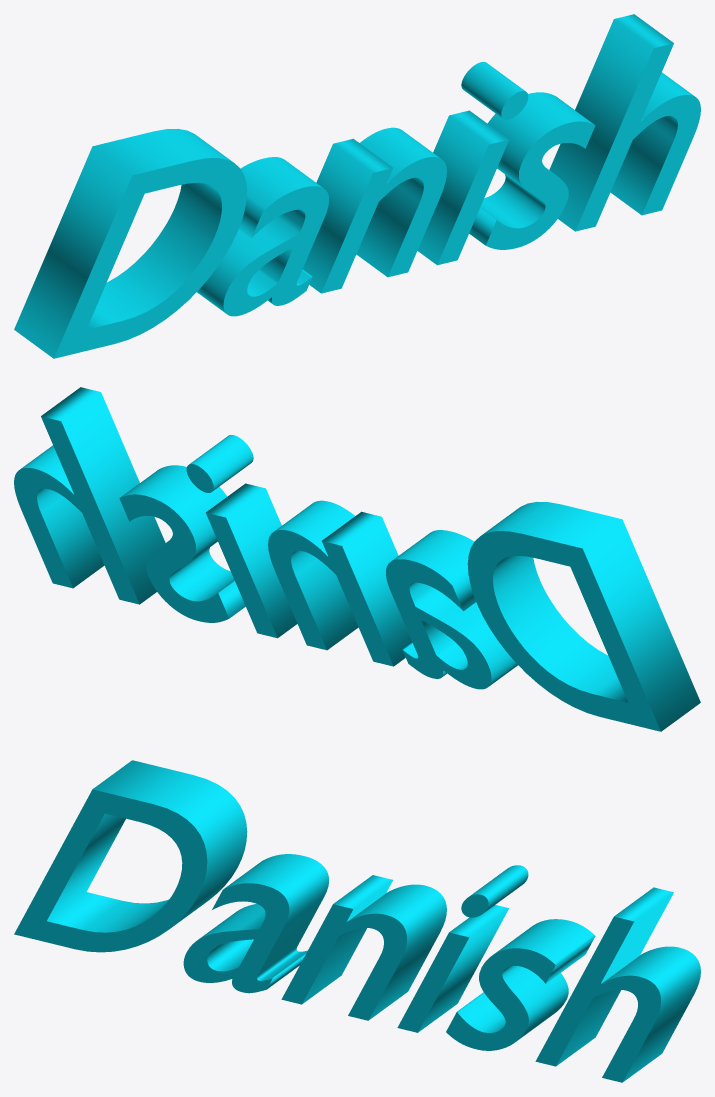
3 views of the same model, one above another, from view 1: azimuth 30°, elevation 25°; view 2: azimuth 150°, elevation 25°; view 3: azimuth 330°, elevation 25° (orthographic).
Parts seen in each view (by area): view 1: Danish; view 2: Danish; view 3: Danish.
Boxes of the visible parts, x1,y1,x2,y2 form: Danish: [14, 14, 700, 358]; Danish: [14, 387, 700, 731]; Danish: [14, 760, 700, 1082].
Bounding box in the file's own units: 4.22 × 1.04 × 0.45.
